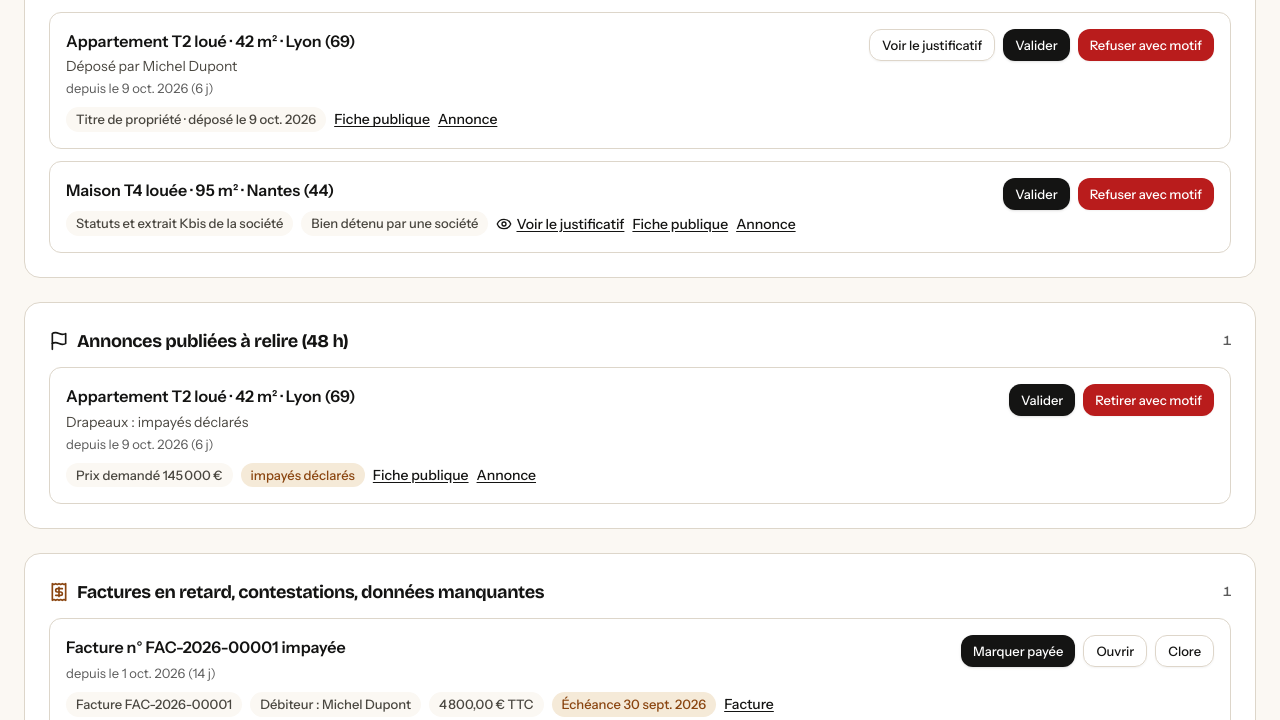
it: AdminDashboard › « Valider » appelle l'action telle quelle ; « Retirer avec motif » demande le motif
Later steps or results of the test are not shown.
(page scrolled)
Click the button with test id "todo-action-c1-call" at x=1042, y=400, box [1009,384,1075,416]
Click the button with test id "todo-action-c1-remove" at x=1149, y=400, box [1083,384,1214,416]
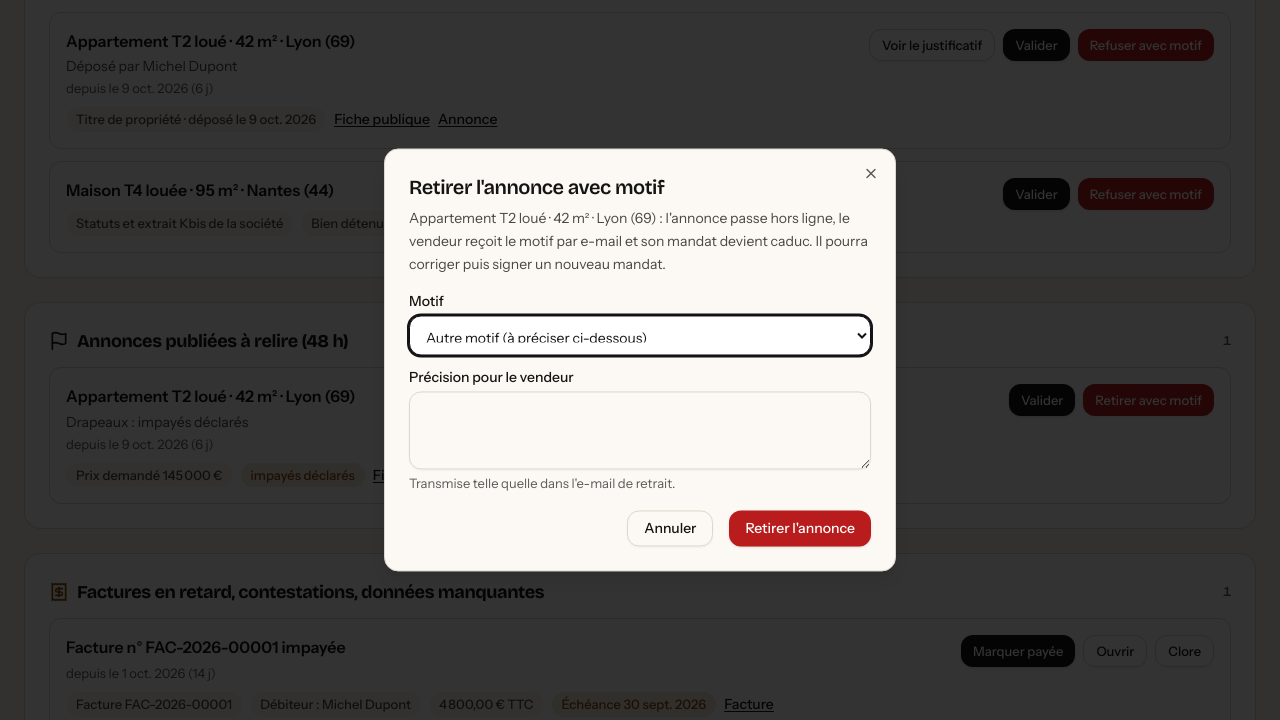
Check: the dialog with test id "removal-dialog" is shown, box [384,148,896,572]
Check: the dialog with test id "removal-dialog" shows "le vendeur reçoit le motif", box [409,210,868,273]
Select "Autre motif (à préciser ci-dessous)" in the dropdown with test id "removal-reason" at x=640, y=336, box [409,316,871,356]
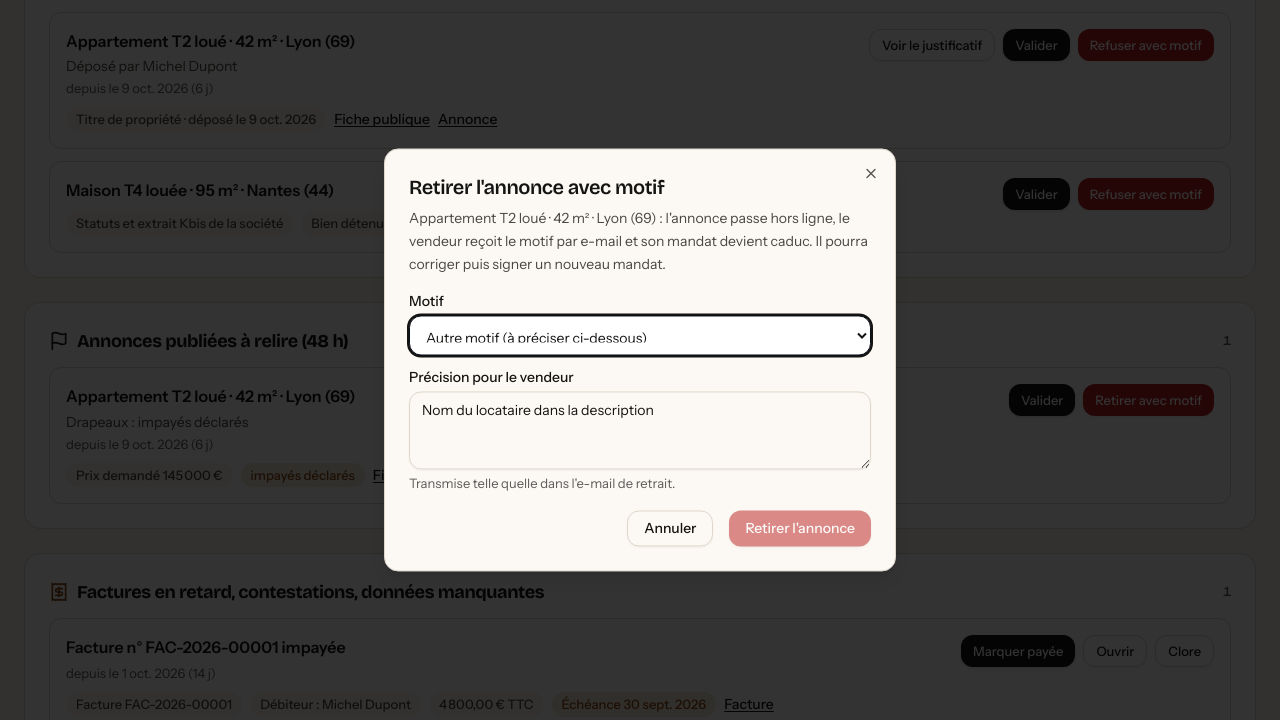
Check: the button with test id "removal-dialog-confirm" is disabled, box [730,510,871,546]
